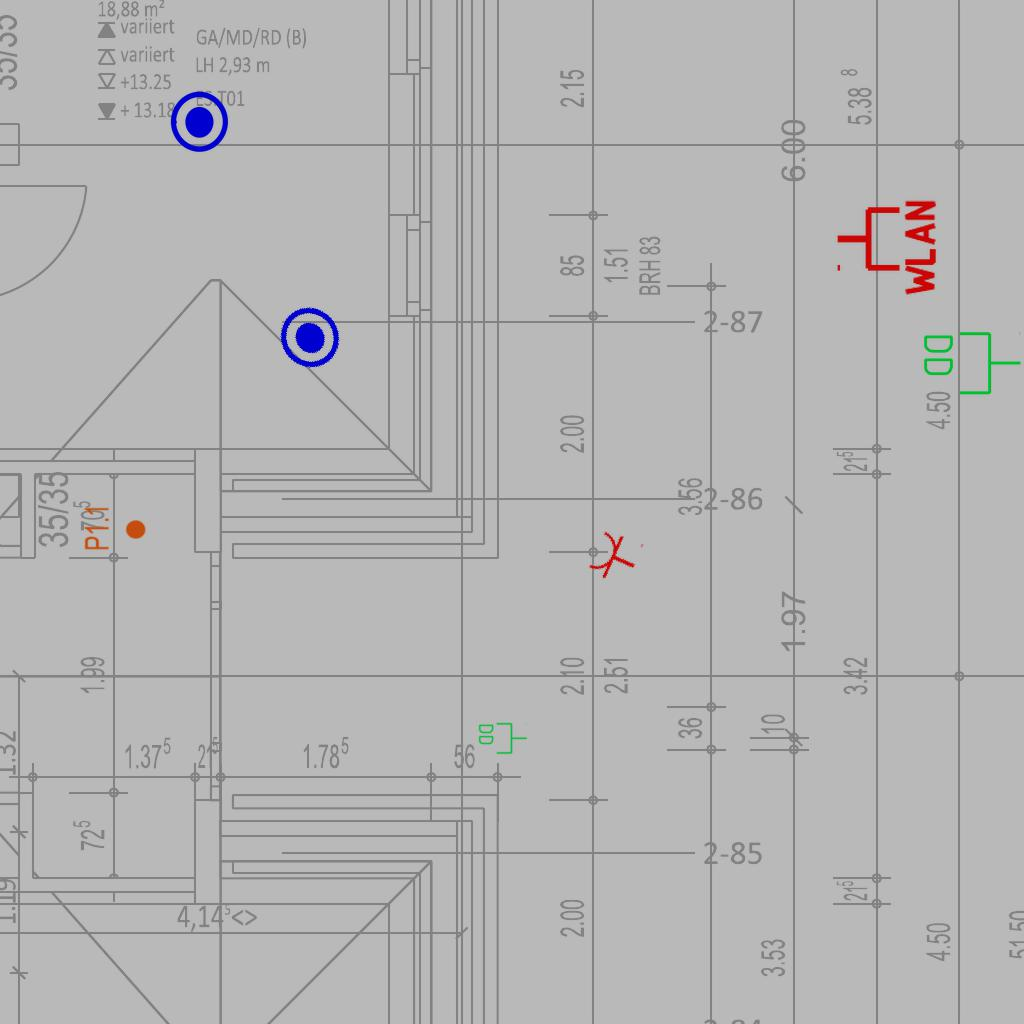Datenanschluss_zweifach: (920, 328, 1023, 397), (477, 721, 528, 755)
Downlight_LED_Einbauleuchten_Flur_2: (83, 505, 147, 551)
Schukosteckdose_einfach: (585, 525, 646, 589)
Taster: (262, 293, 354, 385), (164, 89, 230, 155)
WLAN: (833, 196, 938, 300)
